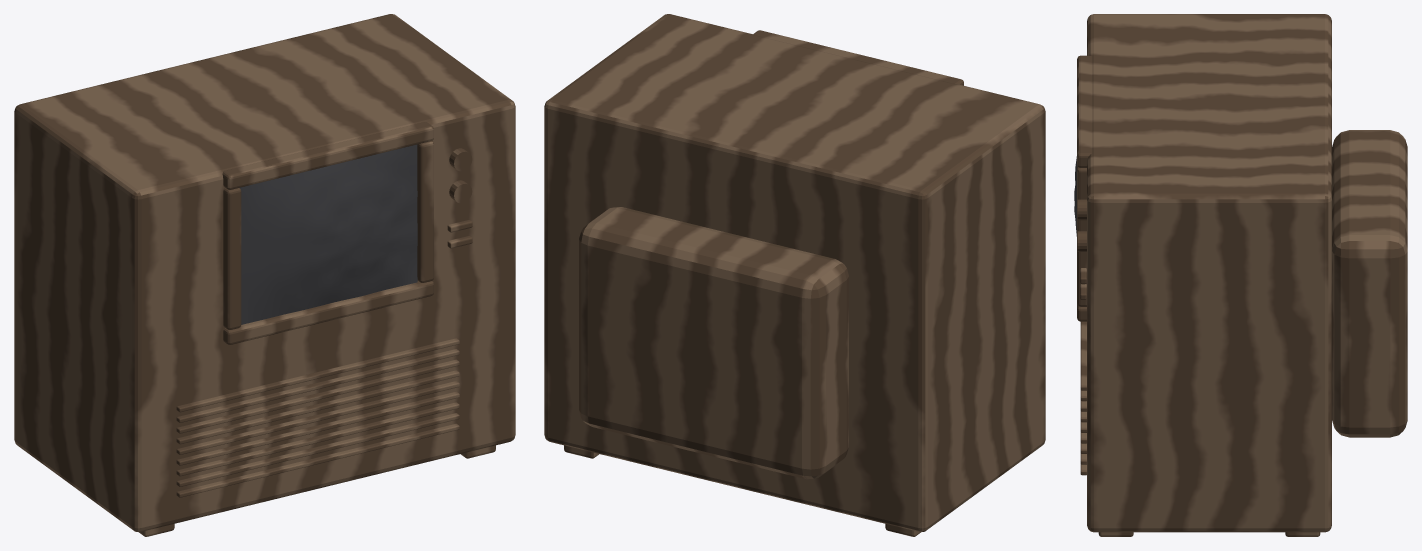
The model's file is PRP_CRTTV_Cracked.fbx.
The picture shows the model from 3 angles, left to right: view 1: azimuth 30°, elevation 25°; view 2: azimuth 150°, elevation 25°; view 3: azimuth 270°, elevation 25°; orthographic projection.
Parts seen in each view (by area): view 1: TV_Shell, TV_Screen; view 2: TV_Shell; view 3: TV_Shell.
Boxes of the visible parts, x1=… form: TV_Shell: x1=14, y1=14, x2=515, y2=536; TV_Screen: x1=239, y1=144, x2=417, y2=324; TV_Shell: x1=544, y1=14, x2=1045, y2=536; TV_Shell: x1=1077, y1=14, x2=1407, y2=536.
Size of the model in its own units: 75 by 66 by 57.21.
